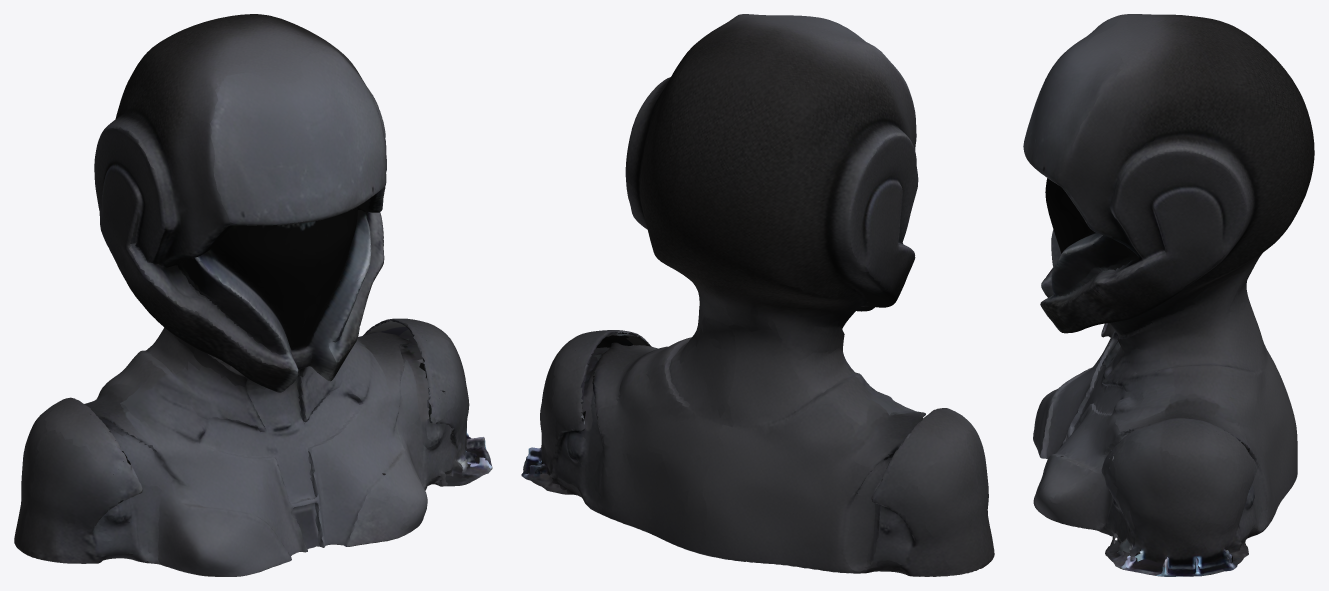
Rendered from 1x1_3D_rendering_model__3D_asset__we.glb.
The picture shows the model from 3 angles, left to right: view 1: azimuth 30°, elevation 25°; view 2: azimuth 150°, elevation 25°; view 3: azimuth 270°, elevation 25°; orthographic projection. The views are drawn at different scales.
Visible parts, largest first — view 1: tmp_ggcyrjp.ply; view 2: tmp_ggcyrjp.ply; view 3: tmp_ggcyrjp.ply.
Part boxes in pixels (<box>): tmp_ggcyrjp.ply: <box>14,14,492,576</box>; tmp_ggcyrjp.ply: <box>521,14,994,576</box>; tmp_ggcyrjp.ply: <box>1023,14,1314,576</box>.
Size of the model in its own units: 1.96 by 1.97 by 1.16.
1 material, 1 textured.
